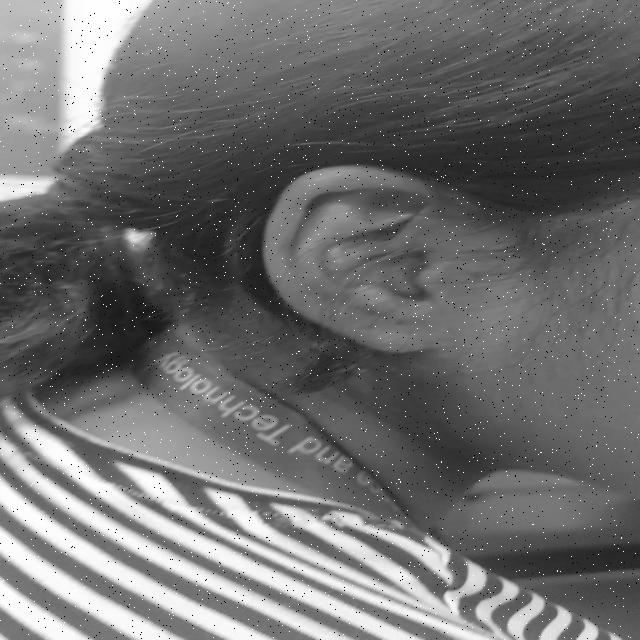ear: (263, 167, 445, 353), (434, 323, 436, 324), (436, 278, 436, 279), (443, 222, 443, 224)
